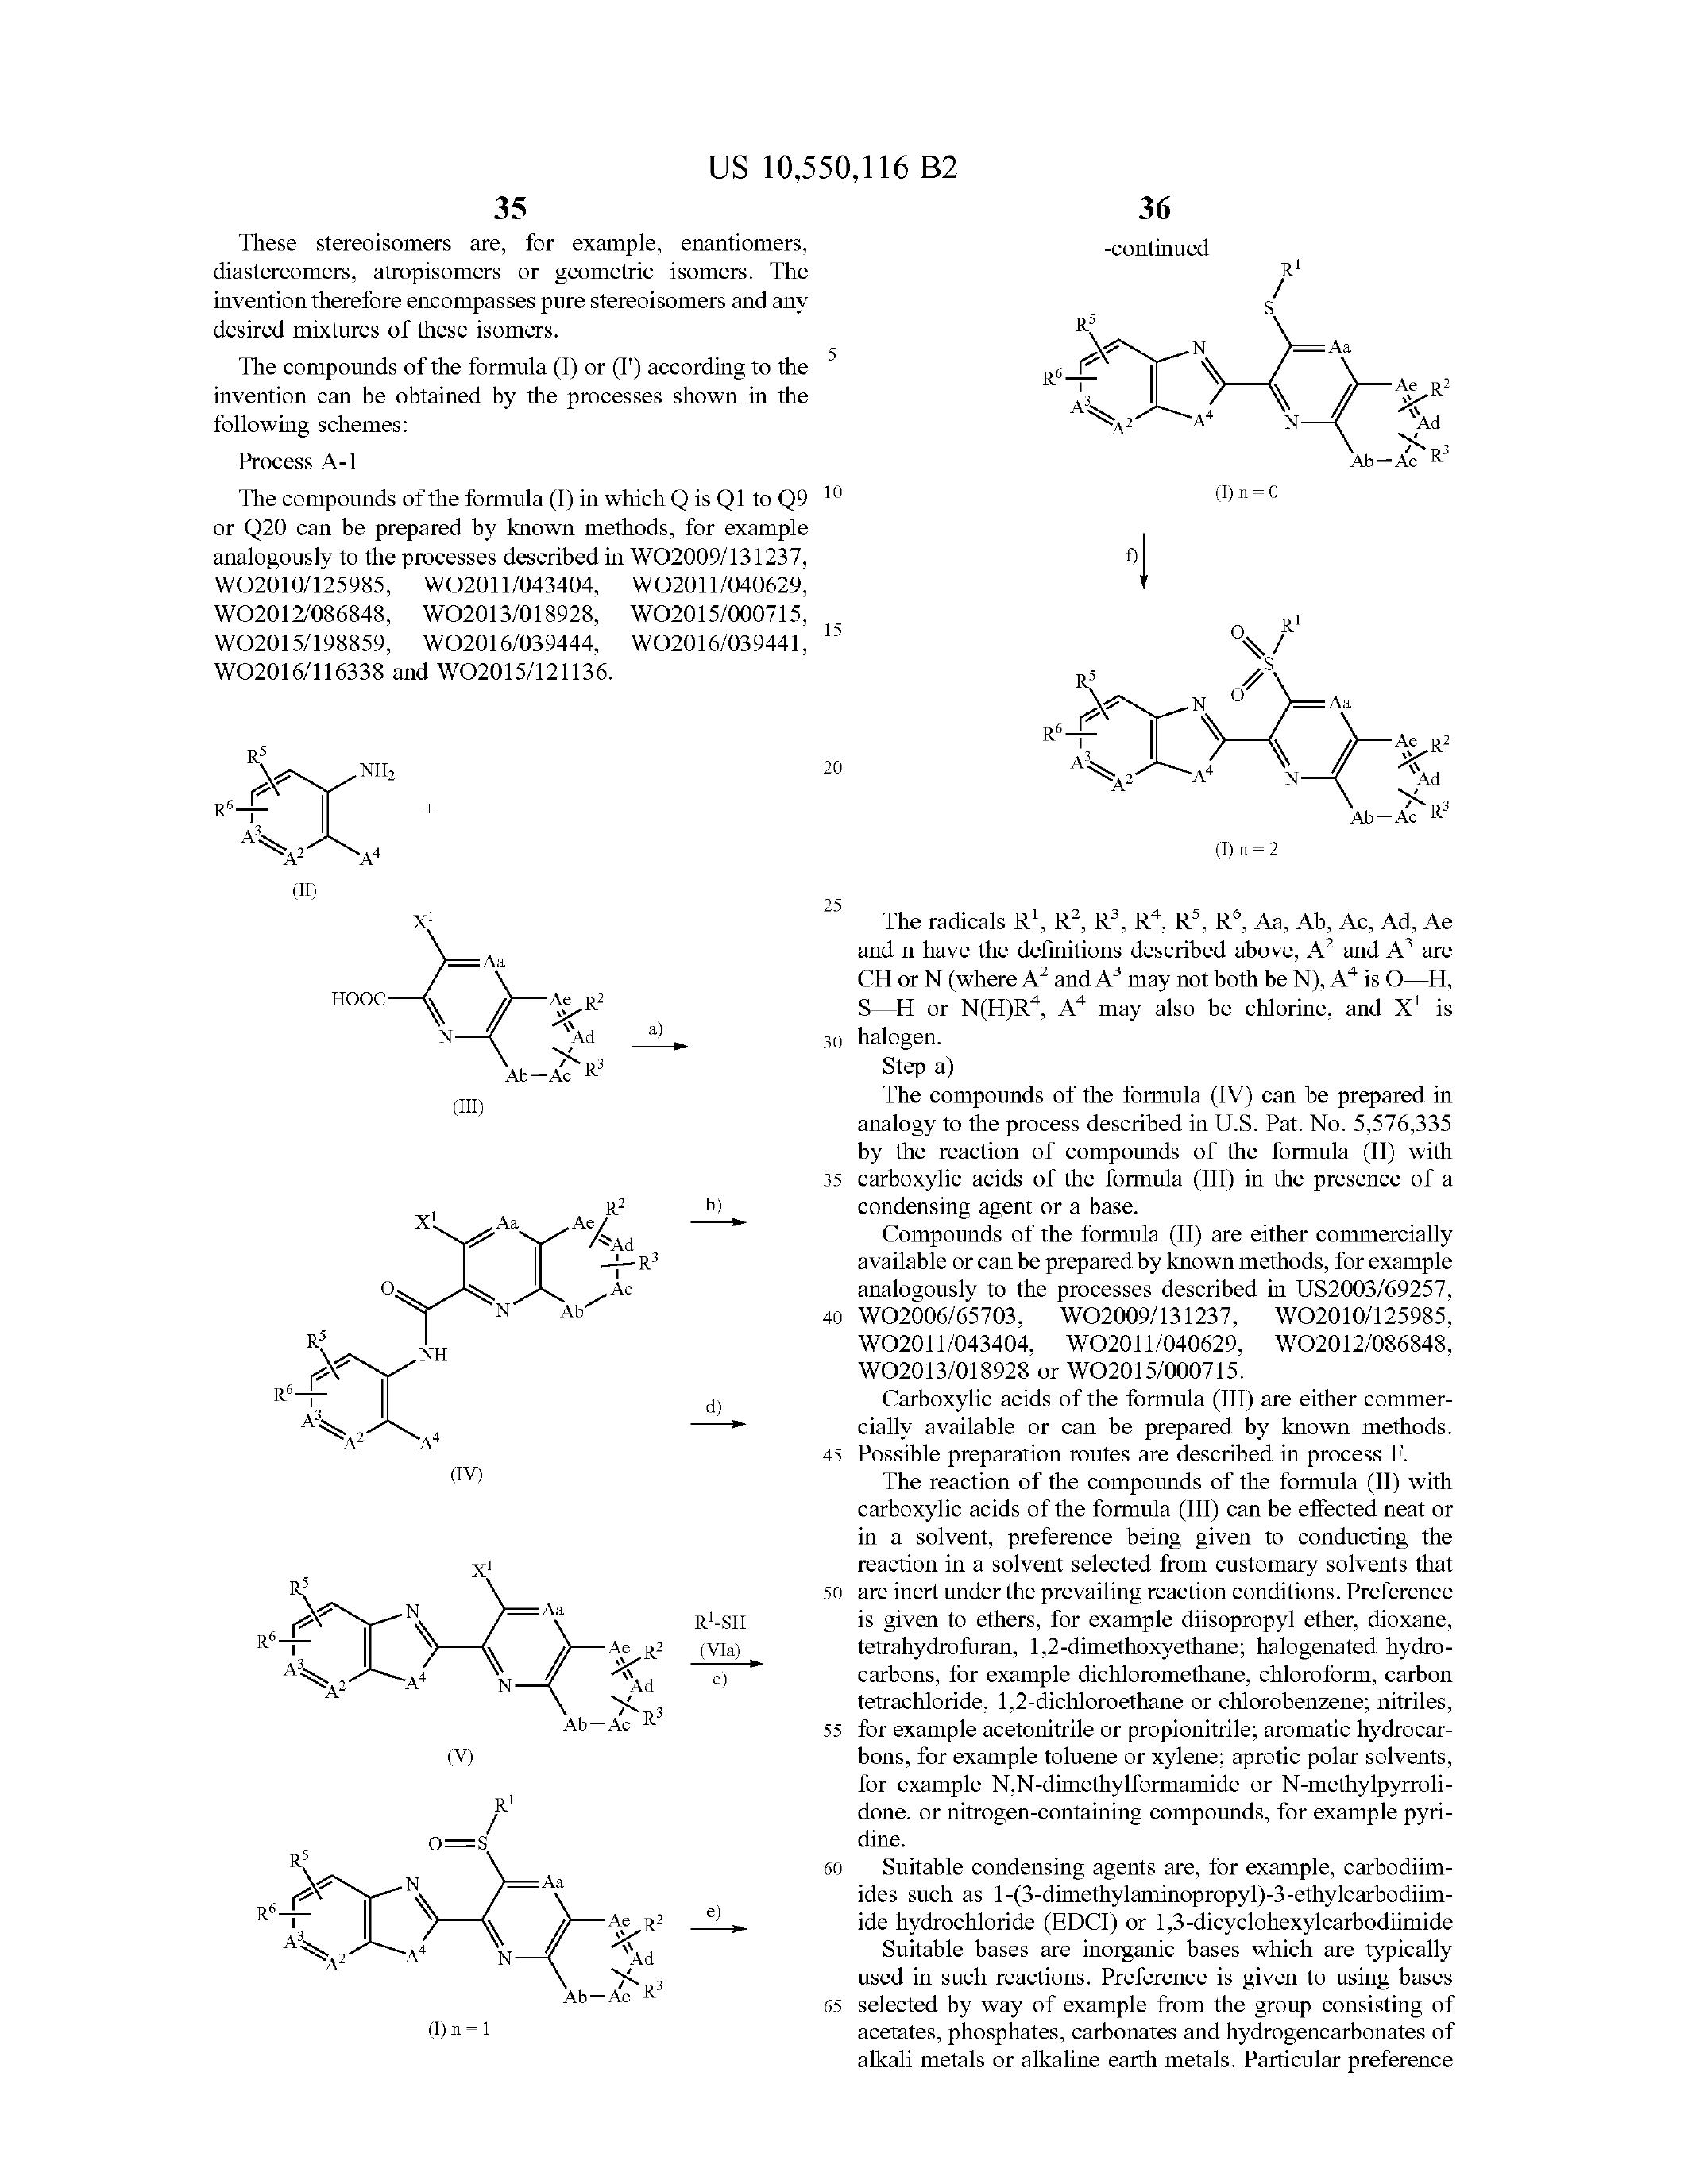reactions: (975, 230, 1498, 869)
